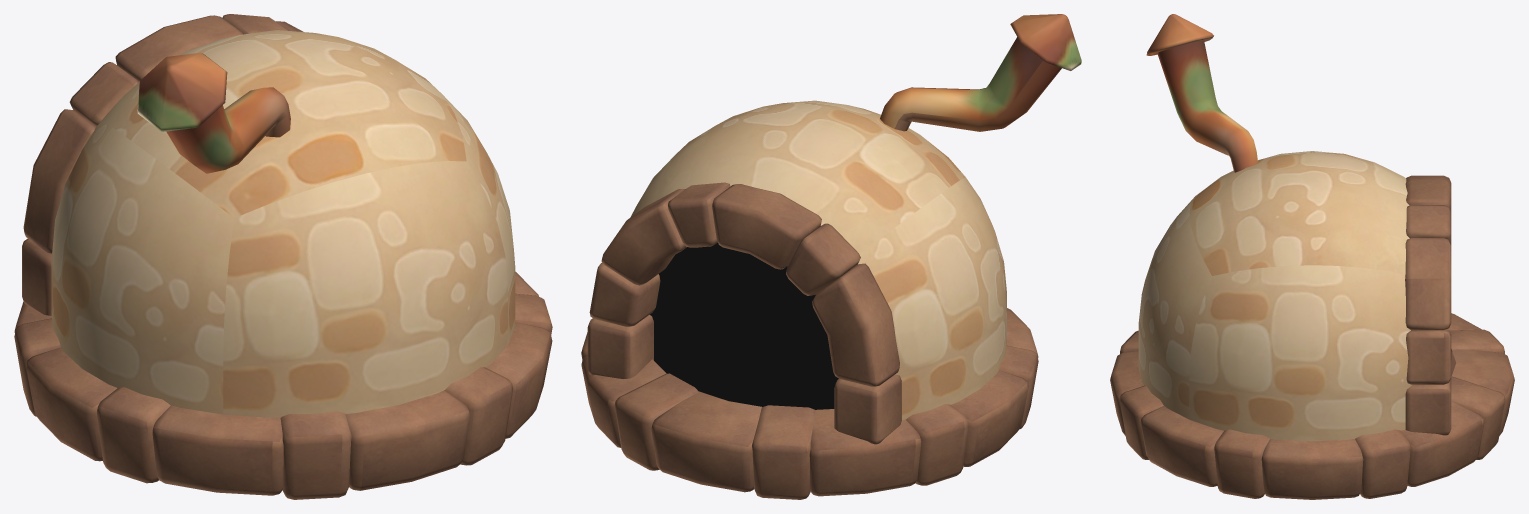
File: SM_Furnace.fbx
3 views of the same model, side by side, from view 1: azimuth 30°, elevation 25°; view 2: azimuth 150°, elevation 25°; view 3: azimuth 270°, elevation 25° (orthographic). The views are drawn at different scales.
Visible parts, largest first — view 1: furnace; view 2: furnace, furnace.001; view 3: furnace.
Boxes of the visible parts, x1,y1,x2,y2 form: furnace: (14,14,552,499); furnace: (581,14,1081,499); furnace.001: (650,243,838,409); furnace: (1110,14,1514,499).
Bounding box in the file's own units: 65.57 × 59.75 × 65.57.
Materials: 2 (1 with a texture image).
